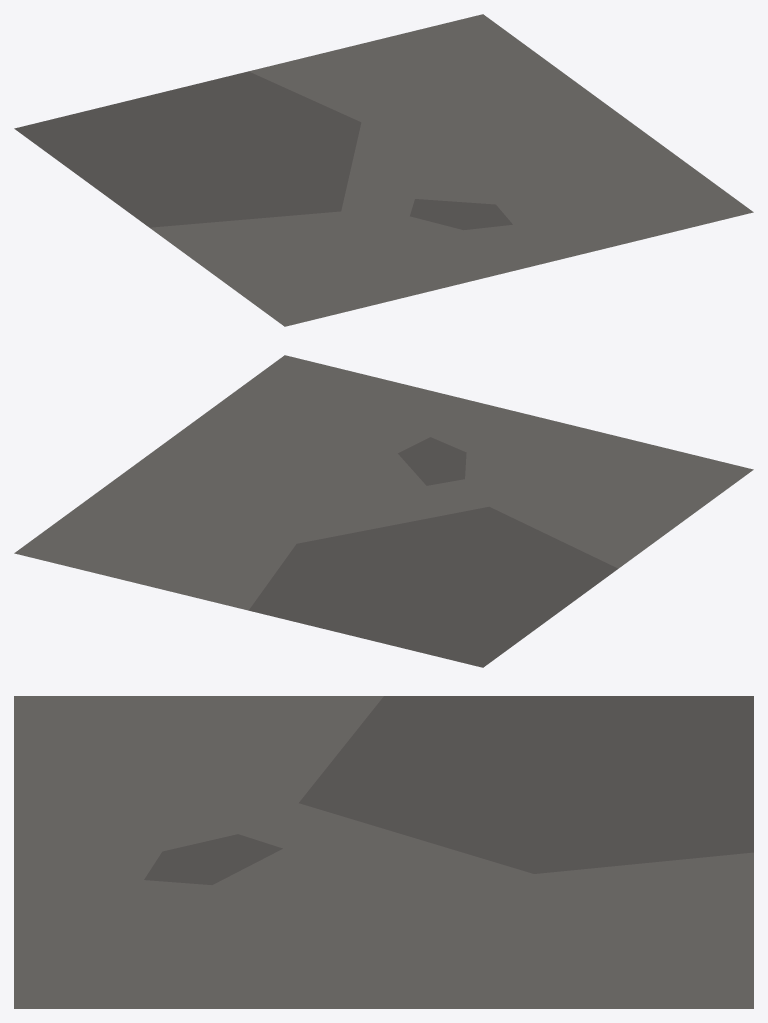
The model's file is AI_Env_Floor_01_Stained_02.fbx.
3 views of the same model, one above another, from view 1: azimuth 30°, elevation 25°; view 2: azimuth 150°, elevation 25°; view 3: azimuth 270°, elevation 25° (orthographic). The views are drawn at different scales.
Visible parts, largest first — view 1: AI_Env_Floor_01_Stained_02; view 2: AI_Env_Floor_01_Stained_02; view 3: AI_Env_Floor_01_Stained_02.
Boxes of the visible parts, x1,y1,x2,y2 form: AI_Env_Floor_01_Stained_02: (14, 14, 753, 326); AI_Env_Floor_01_Stained_02: (14, 355, 753, 667); AI_Env_Floor_01_Stained_02: (14, 696, 753, 1008).
Bounding box in the file's own units: 5 × 0 × 5.
